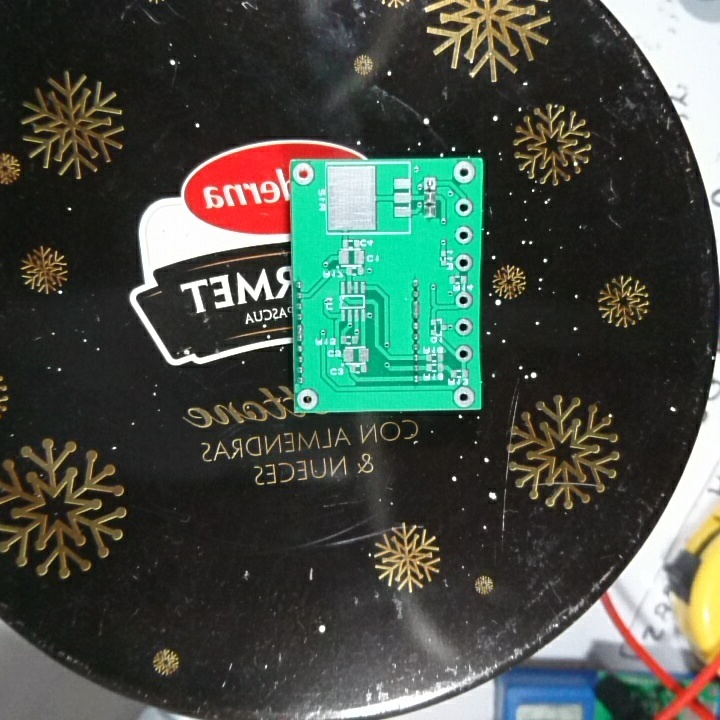F: (452, 159, 480, 188), (291, 160, 319, 188), (296, 386, 323, 411), (450, 385, 478, 409), (451, 197, 478, 221), (453, 225, 477, 248), (453, 289, 477, 312), (453, 317, 478, 339), (454, 341, 476, 366), (453, 252, 476, 273), (421, 175, 441, 192)
P: (409, 298, 424, 320), (294, 323, 308, 343)
